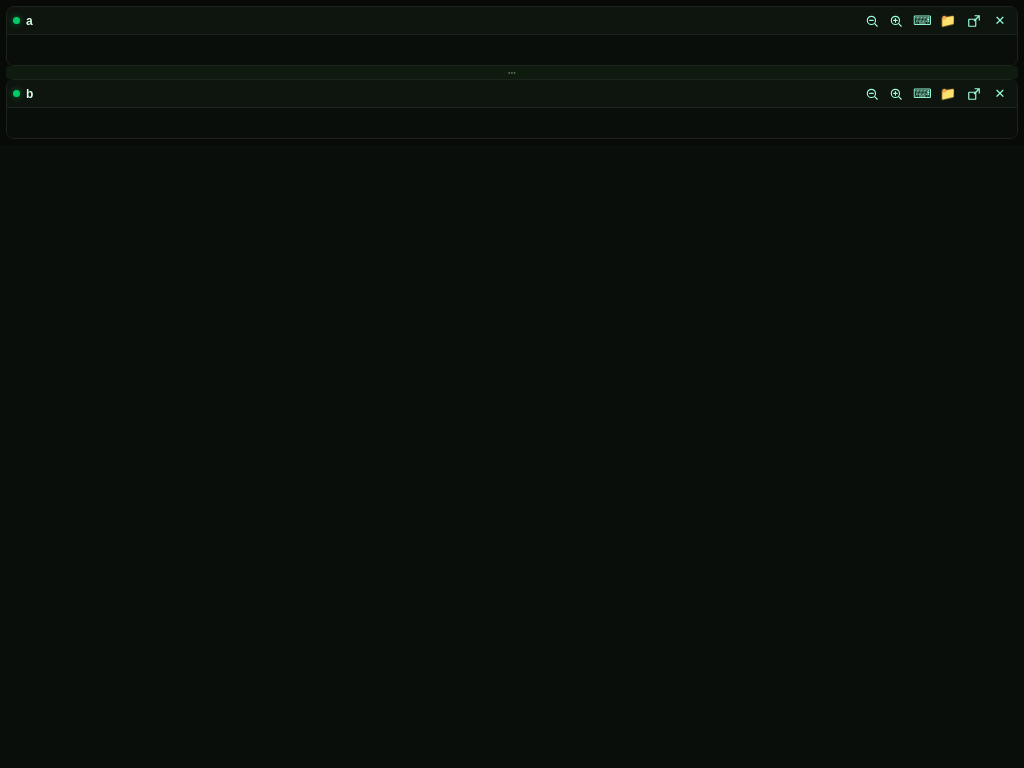
Test case: GridView resize nel viewport reale › la guida di riga copre solo la sua colonna
Press the mouse on the element with class "nc-divider-h" at x=512, y=72, box x1=6 y1=66 x2=1018 y2=79
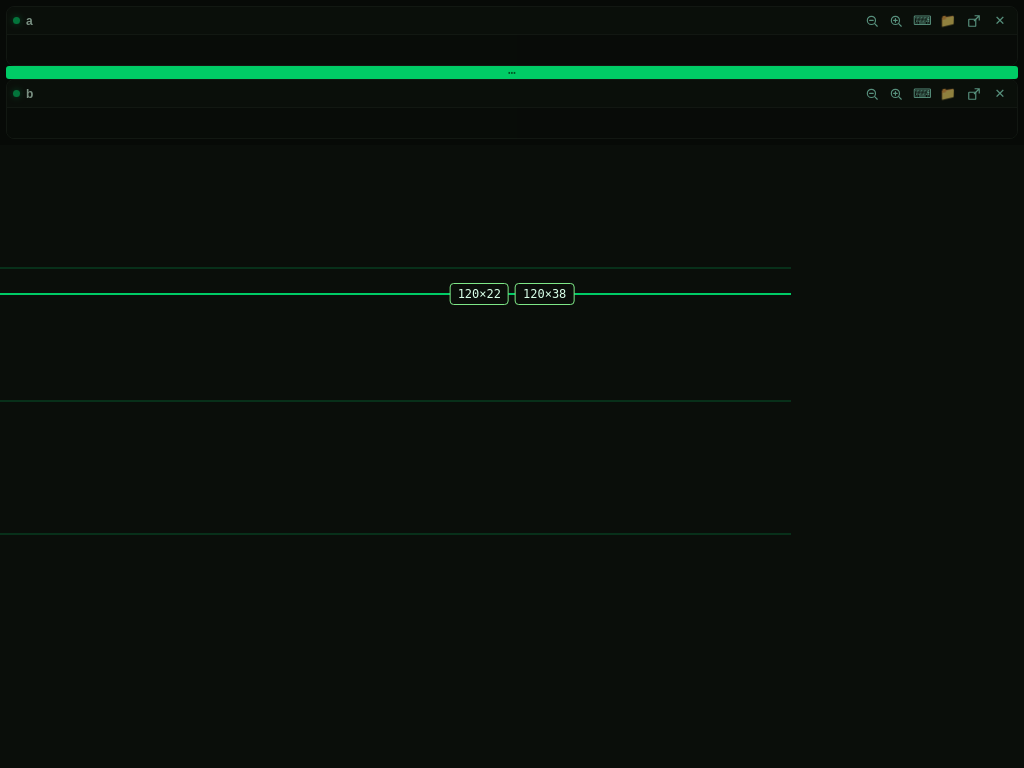
Result: the element with test id "nc-gesture-guide" is shown at x1=0 y1=293 x2=791 y2=295
